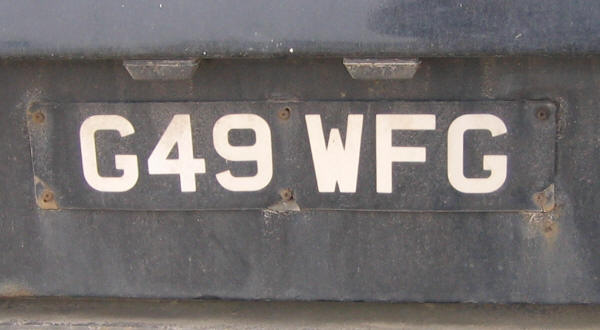license_plate: (24, 99, 557, 211)
